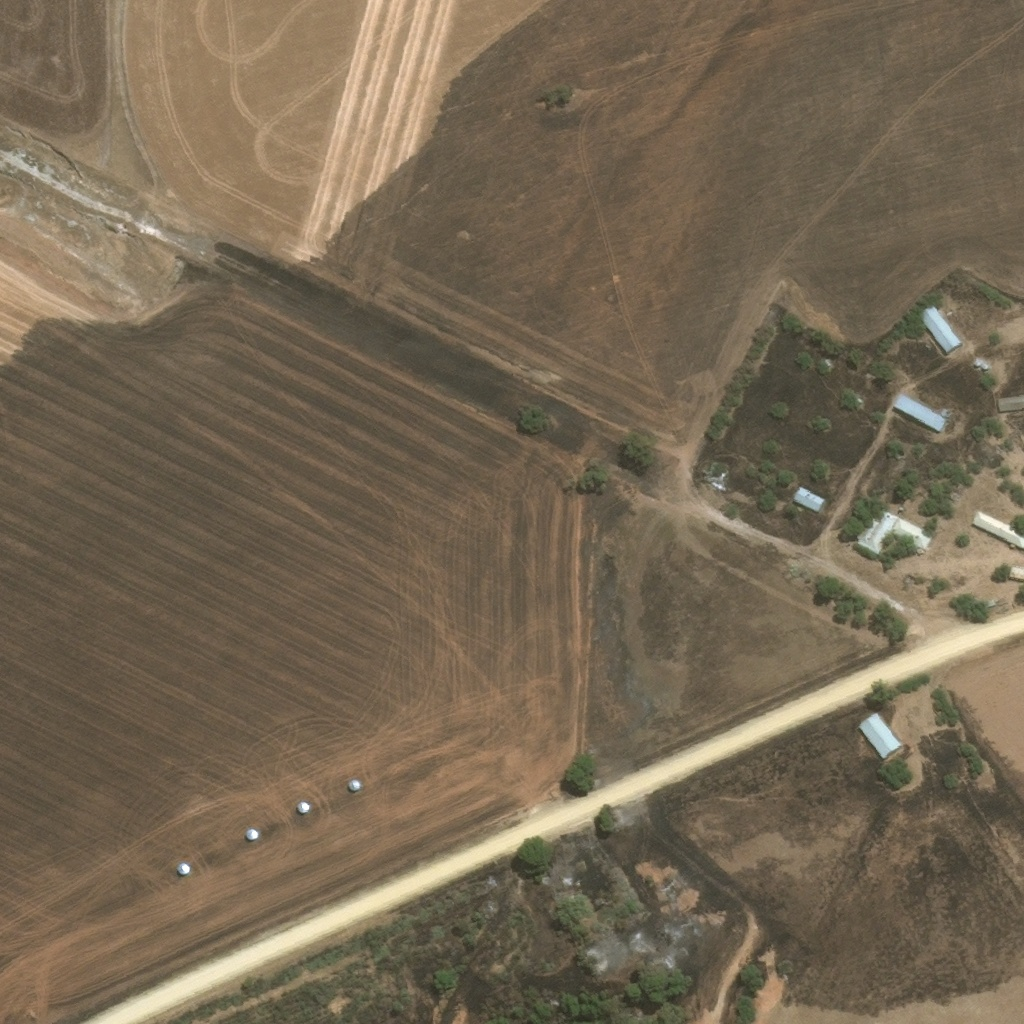0 no-damage: (855, 508, 933, 556), (917, 302, 963, 352), (893, 391, 948, 431), (858, 711, 902, 760), (969, 511, 1023, 549), (792, 485, 824, 512)
4 un-classified: (996, 394, 1023, 413), (1007, 565, 1023, 582)
